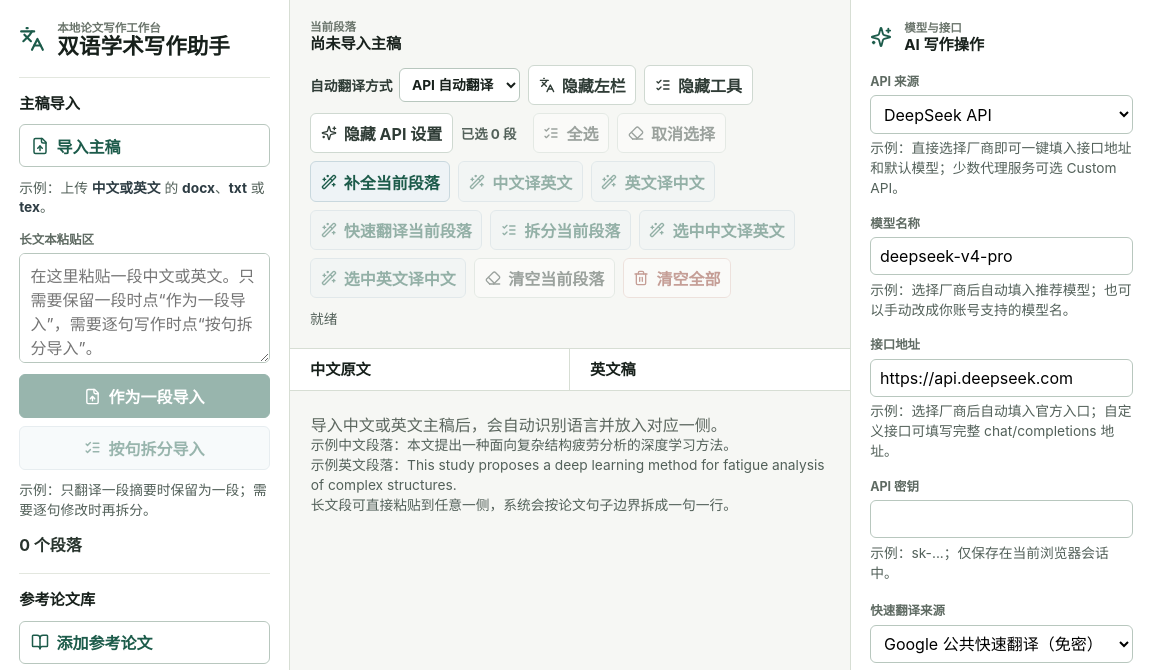
Test: App workbench › imports pasted long text as one paragraph when requested
Type "第一句说明研究目标。第二句继续说明方法。第三句保留在同一个段落中。" into the text box labelled "长文本粘贴区". click: (144, 308)
box: [19,253,270,363]
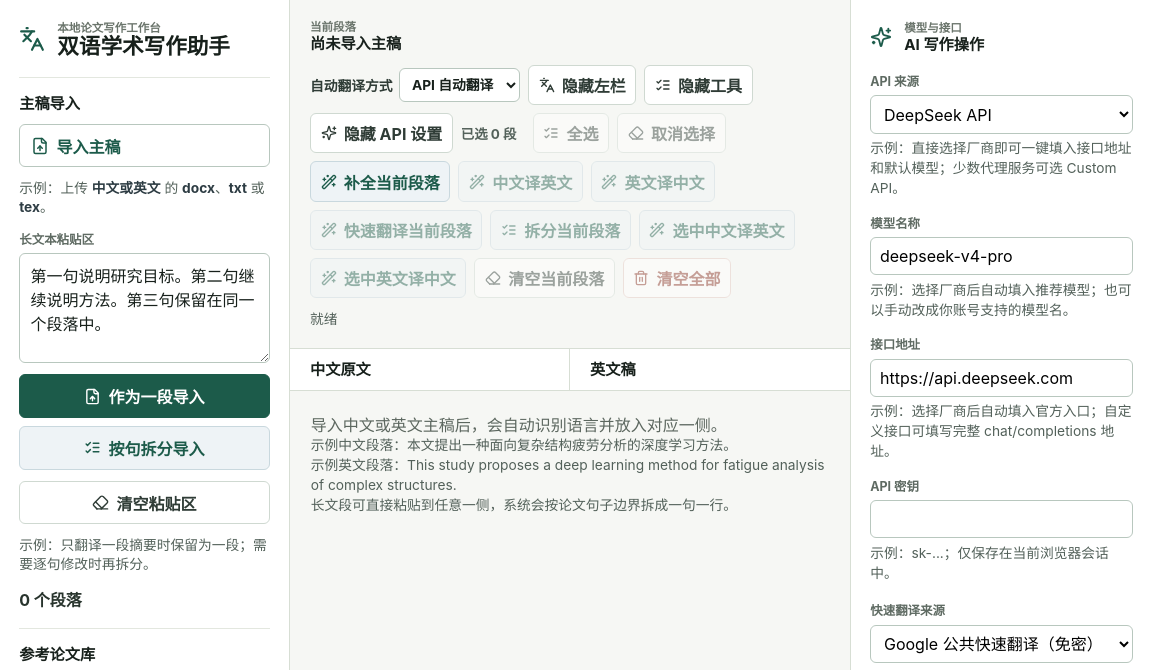
Click the button "作为一段导入". click: click(144, 396)
box: [19,374,270,418]
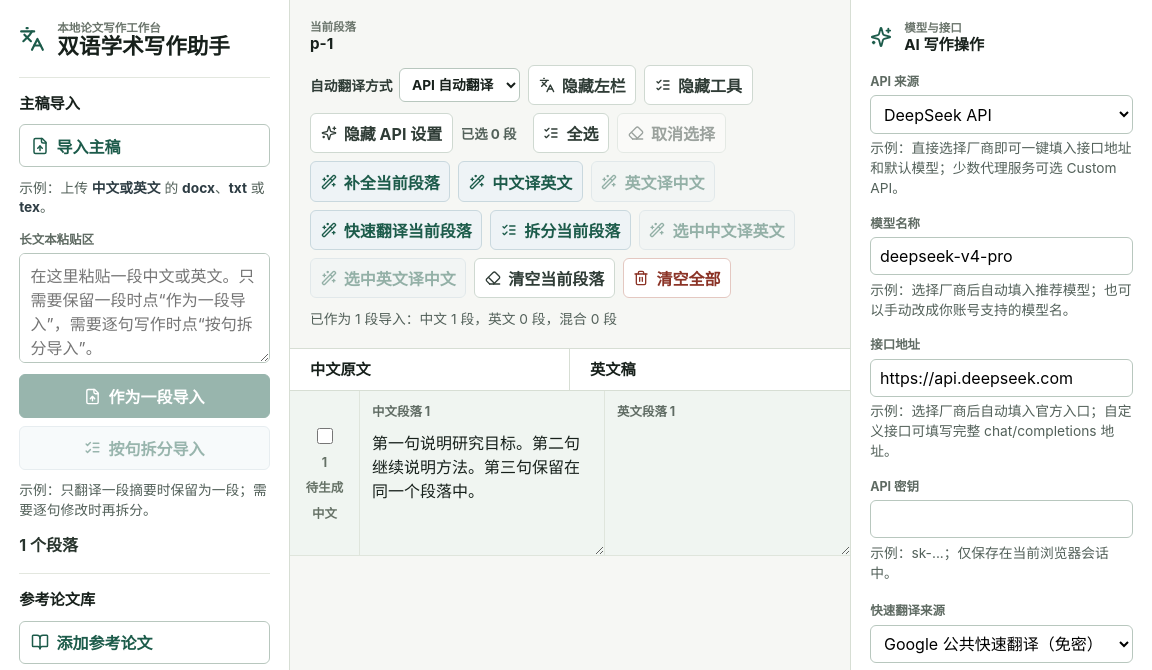
Expected: the text box labelled "中文段落 1" holds "第一句说明研究目标。第二句继续说明方法。第三句保留在同一个段落中。", [360,420,604,555]
Expected: the text "1 个段落" is shown, [19,535,78,555]
Expected: the text "已作为 1 段导入：中文 1 段，英文 0 段，混合 0 段" is shown, [310,312,617,328]
